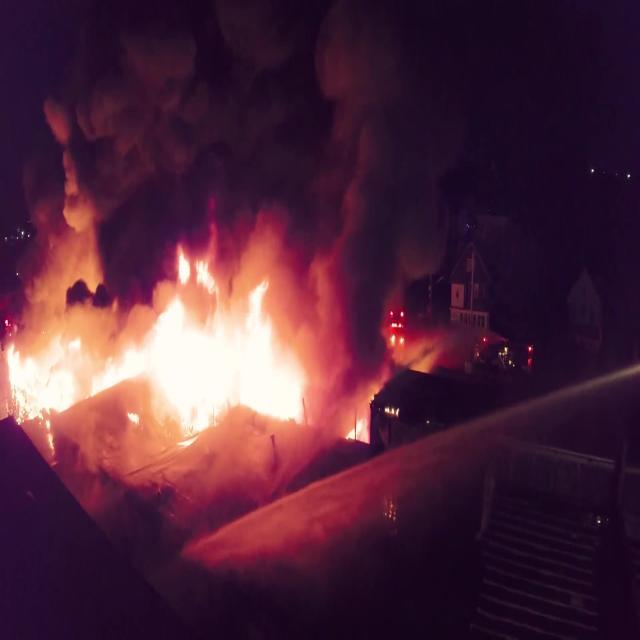Fire: (2, 254, 308, 451), (350, 398, 378, 444)
Smoke: (0, 0, 463, 255)
